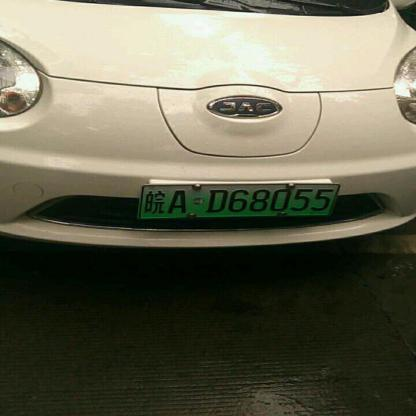lp: (139, 184, 339, 217)
